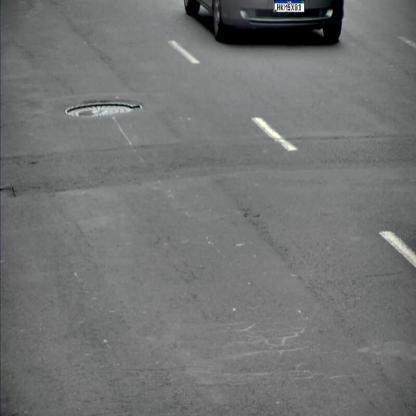PlacaM: (274, 0, 304, 12)
